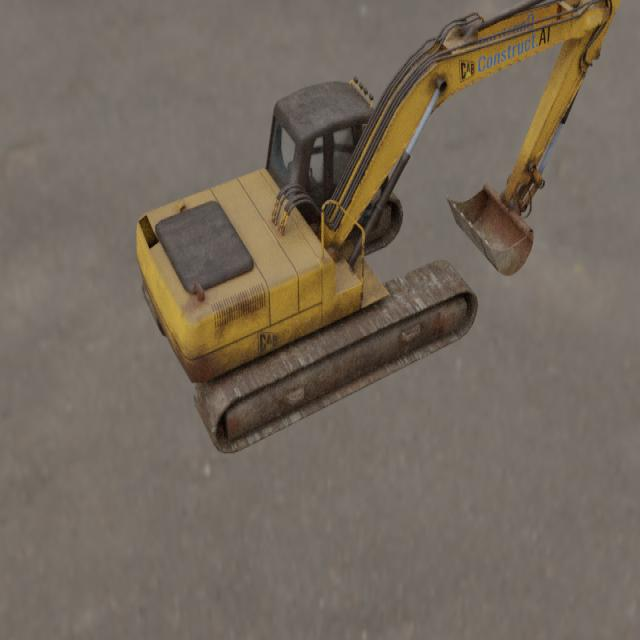excavator: (136, 0, 621, 455)
